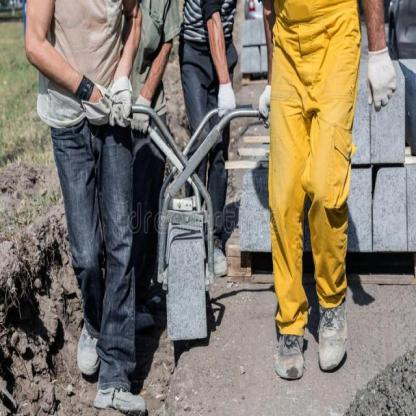bota: (314, 297, 353, 376), (90, 384, 151, 416), (272, 333, 308, 384), (75, 318, 100, 379)
